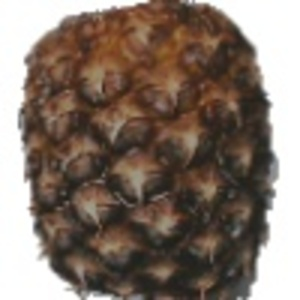abacaxi: (17, 2, 281, 296)
